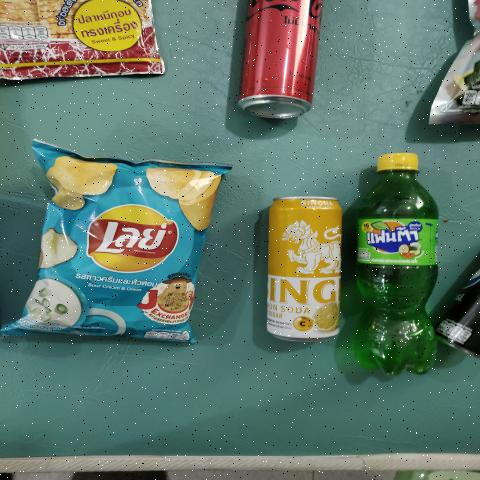fanta_green: (354, 147, 444, 384)
lay_blue: (40, 153, 192, 345)
singha_yellow: (260, 202, 334, 344)
